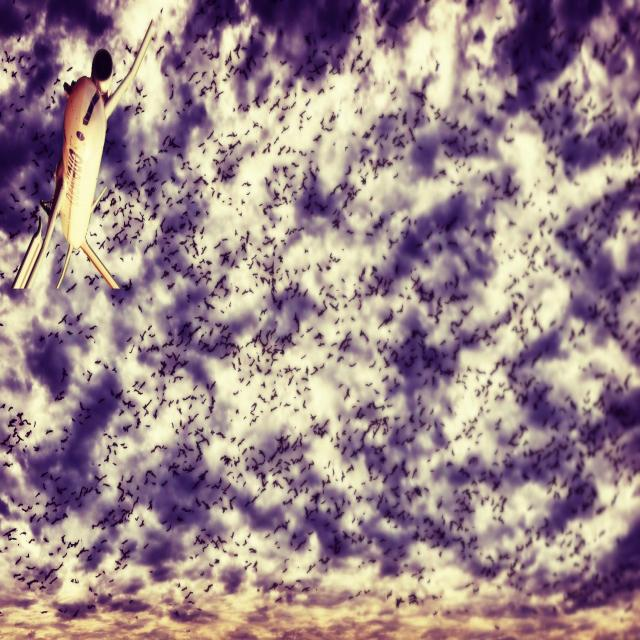airplane: (11, 17, 154, 292)
